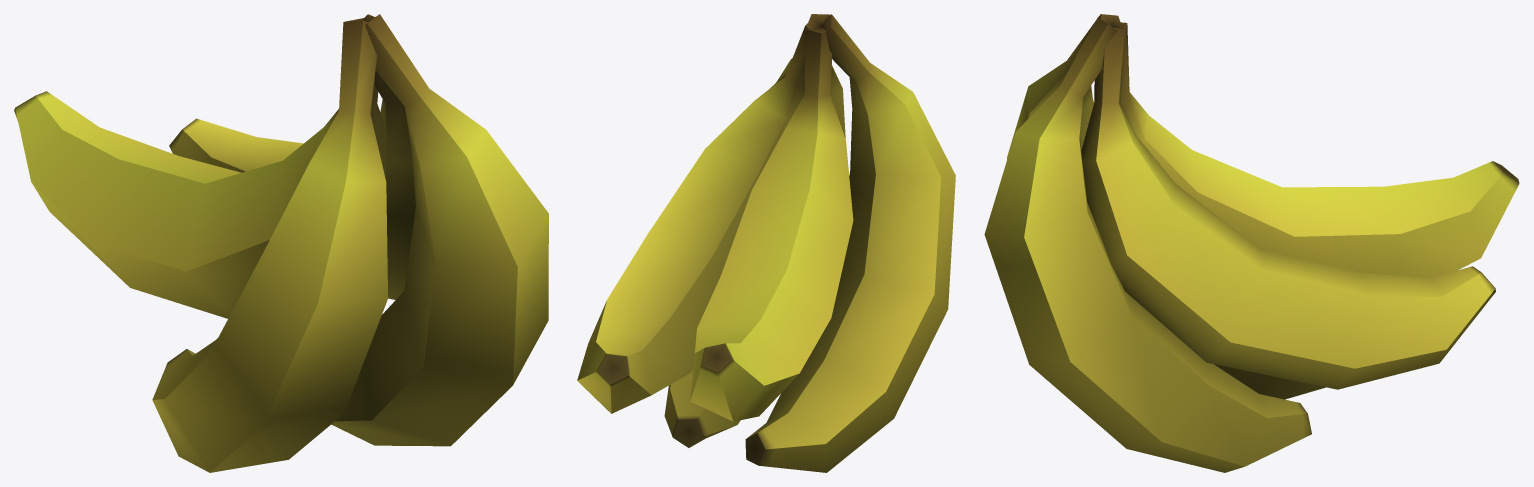
3 views of the same model, side by side, from view 1: azimuth 30°, elevation 25°; view 2: azimuth 150°, elevation 25°; view 3: azimuth 270°, elevation 25° (orthographic). The views are drawn at different scales.
Parts seen in each view (by area): view 1: BananaBunch; view 2: BananaBunch; view 3: BananaBunch.
Part boxes in pixels (<box>): BananaBunch: <box>14,14,548,472</box>; BananaBunch: <box>577,14,955,472</box>; BananaBunch: <box>984,14,1519,472</box>.
Bounding box in the file's own units: 0.2847 × 0.4371 × 0.5.
